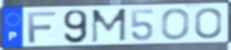5: (129, 8, 154, 42)
9: (62, 8, 89, 44)
F: (27, 10, 58, 44)
M: (90, 7, 128, 44)
O: (160, 7, 191, 41), (194, 7, 224, 40)
